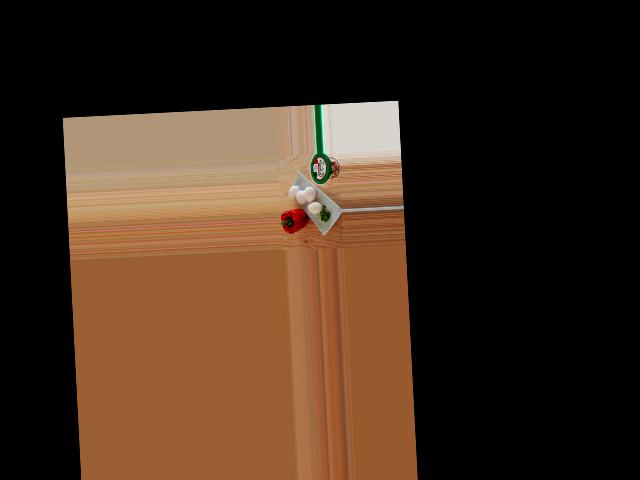bell_pepper: (280, 203, 308, 236)
